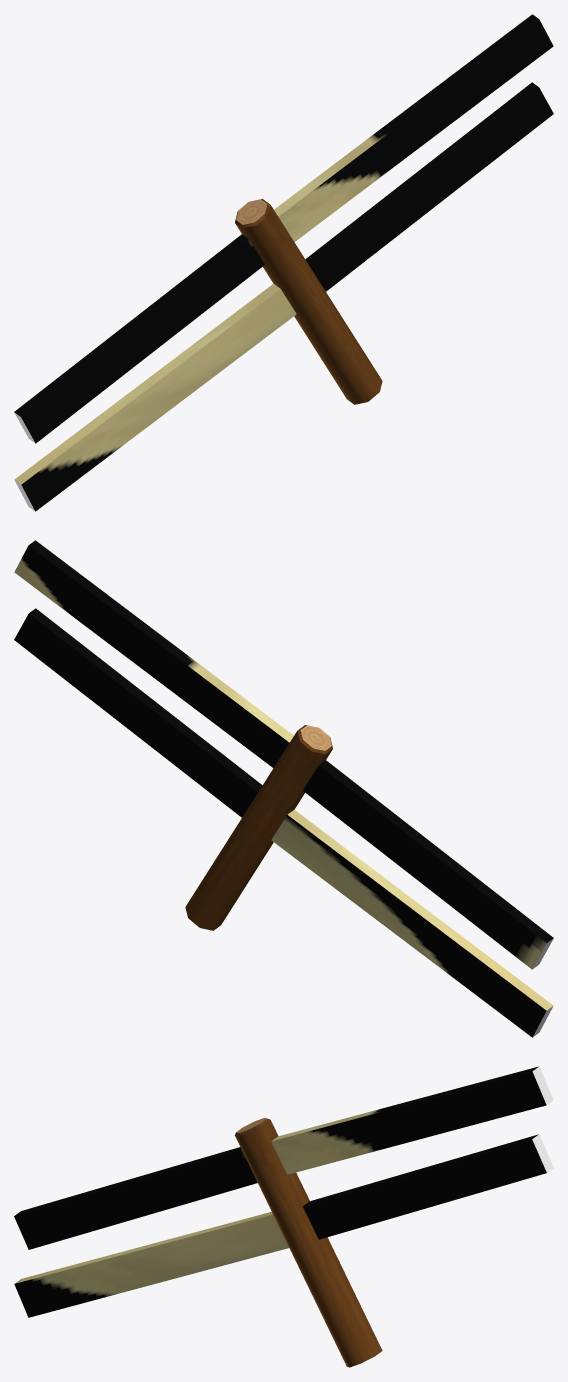
The model's file is Path_Fence_Incline_Sharp_1x2.fbx.
3 views of the same model, one above another, from view 1: azimuth 30°, elevation 25°; view 2: azimuth 150°, elevation 25°; view 3: azimuth 330°, elevation 25° (orthographic).
Visible parts, largest first — view 1: Path_Fence_Incline_Sharp_1x2; view 2: Path_Fence_Incline_Sharp_1x2; view 3: Path_Fence_Incline_Sharp_1x2.
Boxes of the visible parts, x1,y1,x2,y2 form: Path_Fence_Incline_Sharp_1x2: (14, 14, 553, 511); Path_Fence_Incline_Sharp_1x2: (14, 540, 553, 1037); Path_Fence_Incline_Sharp_1x2: (14, 1066, 553, 1367).
Bounding box in the file's own units: 206 × 136 × 12.5.
